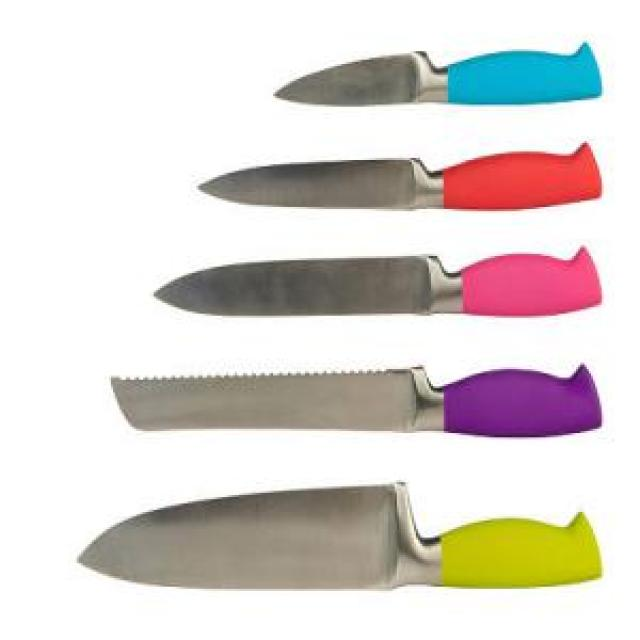knife: (75, 484, 604, 590), (153, 247, 604, 320), (107, 369, 602, 435), (201, 141, 604, 210), (268, 40, 602, 110)
